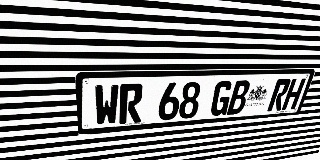6: (157, 82, 182, 121)
8: (178, 82, 203, 119)
B: (226, 80, 251, 115)
G: (209, 81, 234, 116)
H: (281, 78, 306, 110)
R: (119, 83, 143, 124), (267, 79, 292, 111)
W: (94, 84, 119, 126)
